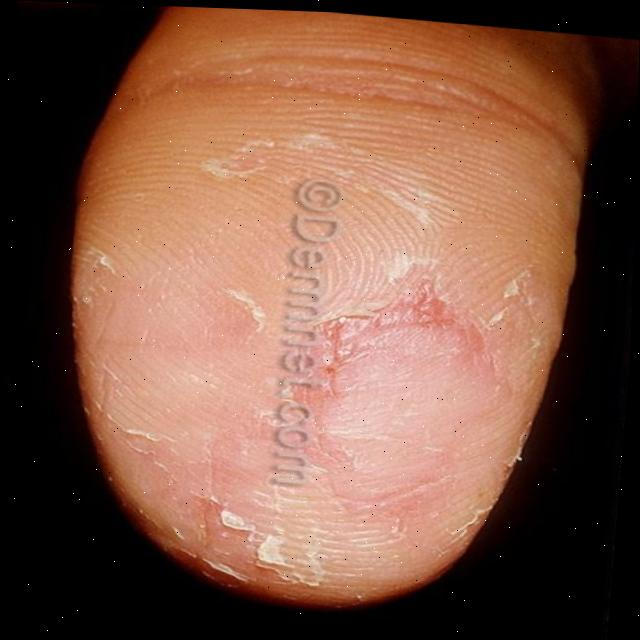Eczema: (209, 254, 503, 588)
